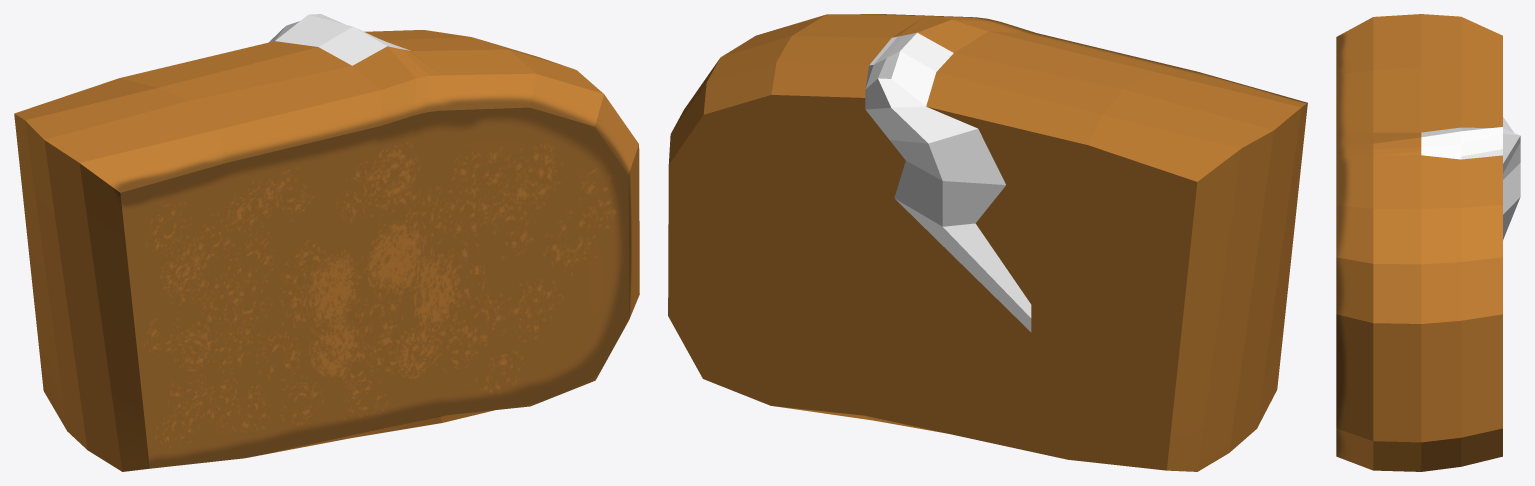
The model's file is LeftHand.fbx.
3 renders of one model, left to right at view 1: azimuth 30°, elevation 25°; view 2: azimuth 150°, elevation 25°; view 3: azimuth 270°, elevation 25°, orthographic. The views are drawn at different scales.
Parts seen in each view (by area): view 1: LeftHand; view 2: LeftHand; view 3: LeftHand.
Part boxes in pixels (bbox=[...]): LeftHand: bbox=[14, 14, 639, 471]; LeftHand: bbox=[668, 14, 1307, 471]; LeftHand: bbox=[1336, 14, 1520, 471].
Size of the model in its own units: 2.9 by 1.8 by 1.04.
1 material, 1 textured.
